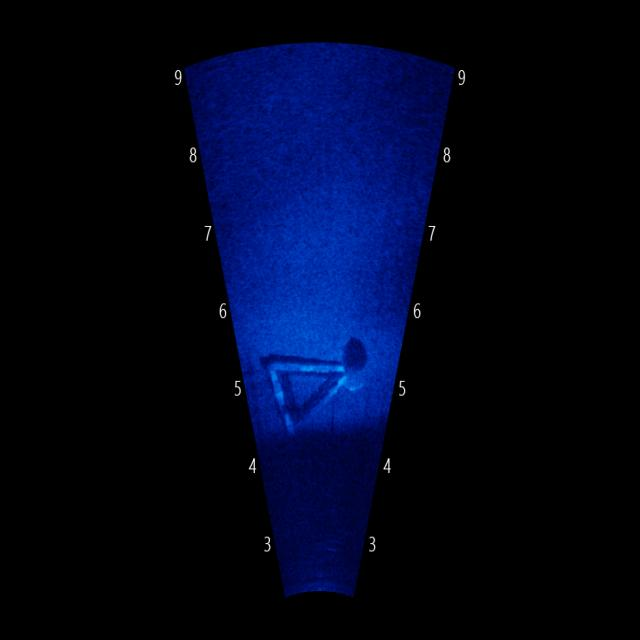triangle: (266, 341, 356, 431)
